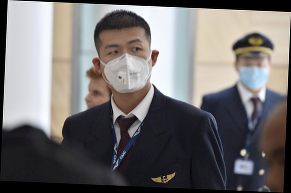with_mask: (98, 36, 153, 93), (238, 57, 271, 92)
